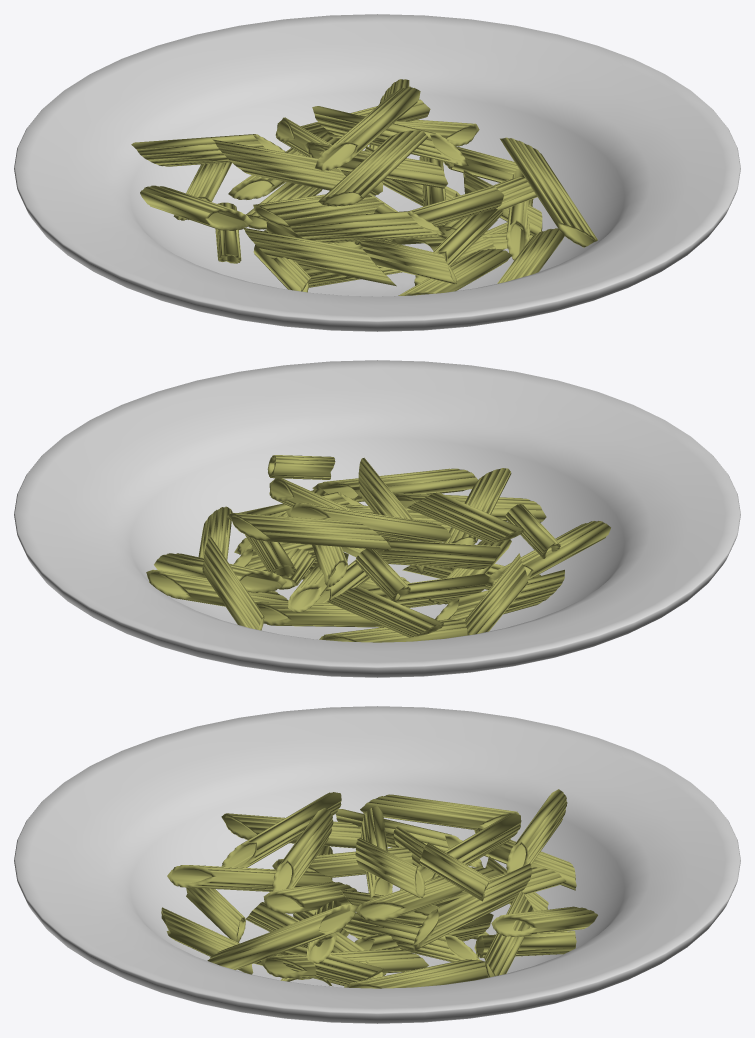
The model's file is pasta.fbx.
The picture shows the model from 3 angles, top to bottom: view 1: azimuth 30°, elevation 25°; view 2: azimuth 150°, elevation 25°; view 3: azimuth 270°, elevation 25°; orthographic projection.
Visible parts, largest first — view 1: Plate, Pasta, Singla_Pasta; view 2: Plate, Pasta, Singla_Pasta; view 3: Plate, Pasta, Singla_Pasta.
Part boxes in pixels (x1,y1,x2,y2): Plate: [14, 14, 740, 331]; Pasta: [131, 79, 597, 295]; Singla_Pasta: [315, 86, 420, 170]; Plate: [14, 360, 740, 677]; Pasta: [146, 455, 610, 642]; Singla_Pasta: [228, 513, 391, 550]; Plate: [14, 706, 740, 1023]; Pasta: [161, 789, 597, 988]; Singla_Pasta: [419, 842, 490, 901].
Size of the model in its own units: 1.16 by 0.2286 by 1.16.
